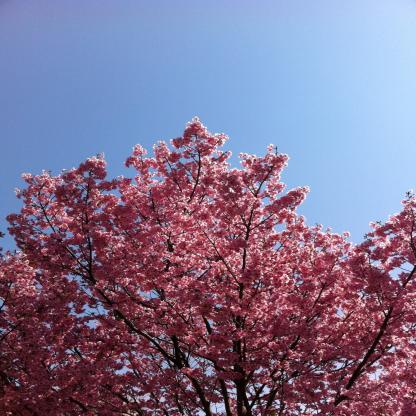YaeSakura: (0, 116, 416, 416)
